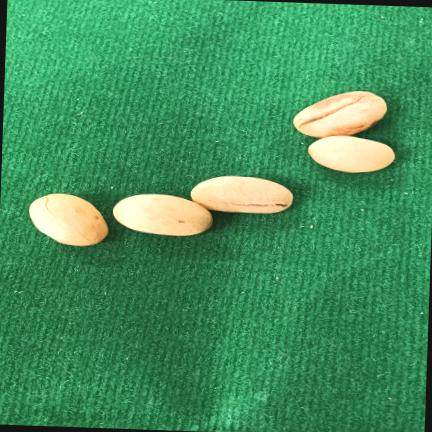parchment: (293, 91, 387, 138), (113, 194, 212, 236), (29, 194, 108, 246), (191, 176, 293, 214), (308, 136, 395, 173)
